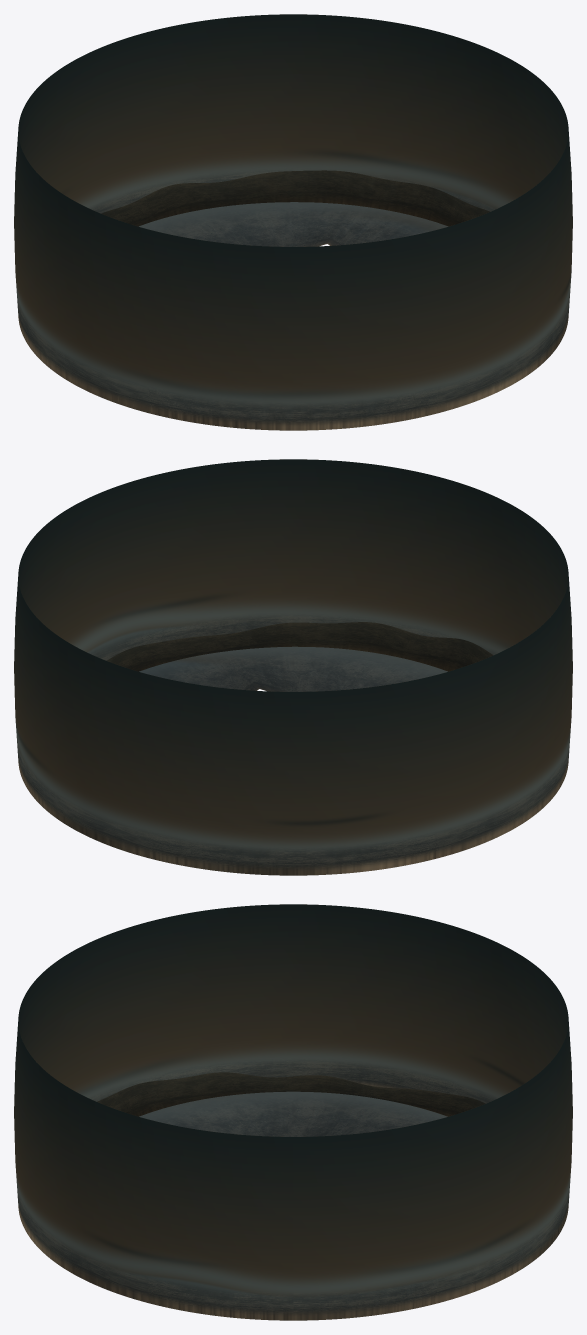
Rendered from half-life-hollow-panorama.glb.
3 views of the same model, one above another, from view 1: azimuth 30°, elevation 25°; view 2: azimuth 150°, elevation 25°; view 3: azimuth 270°, elevation 25° (orthographic).
Visible parts, largest first — view 1: HalfLifeHollowPanorama; view 2: HalfLifeHollowPanorama; view 3: HalfLifeHollowPanorama.
Boxes of the visible parts, x1=… form: HalfLifeHollowPanorama: x1=14, y1=14, x2=572, y2=430; HalfLifeHollowPanorama: x1=14, y1=459, x2=572, y2=875; HalfLifeHollowPanorama: x1=14, y1=904, x2=572, y2=1320.
Bounding box in the file's own units: 386 × 140 × 386.
1 material, 1 textured.
